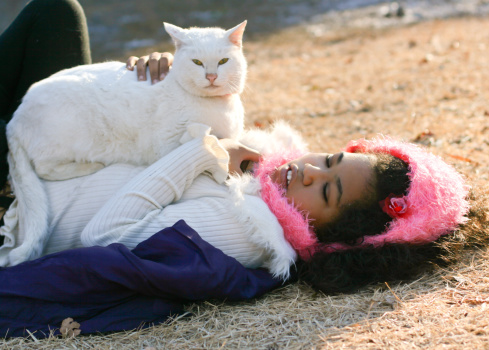deitado: (257, 101, 470, 317)
